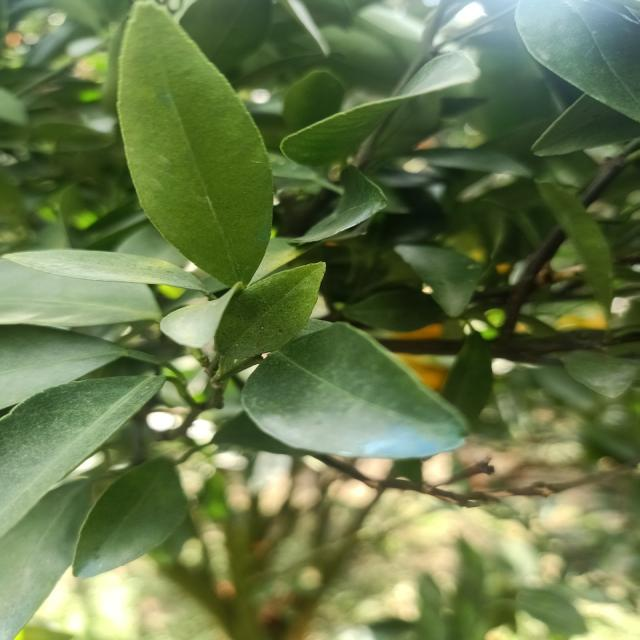blackspot: (201, 271, 311, 367), (54, 254, 207, 292)
